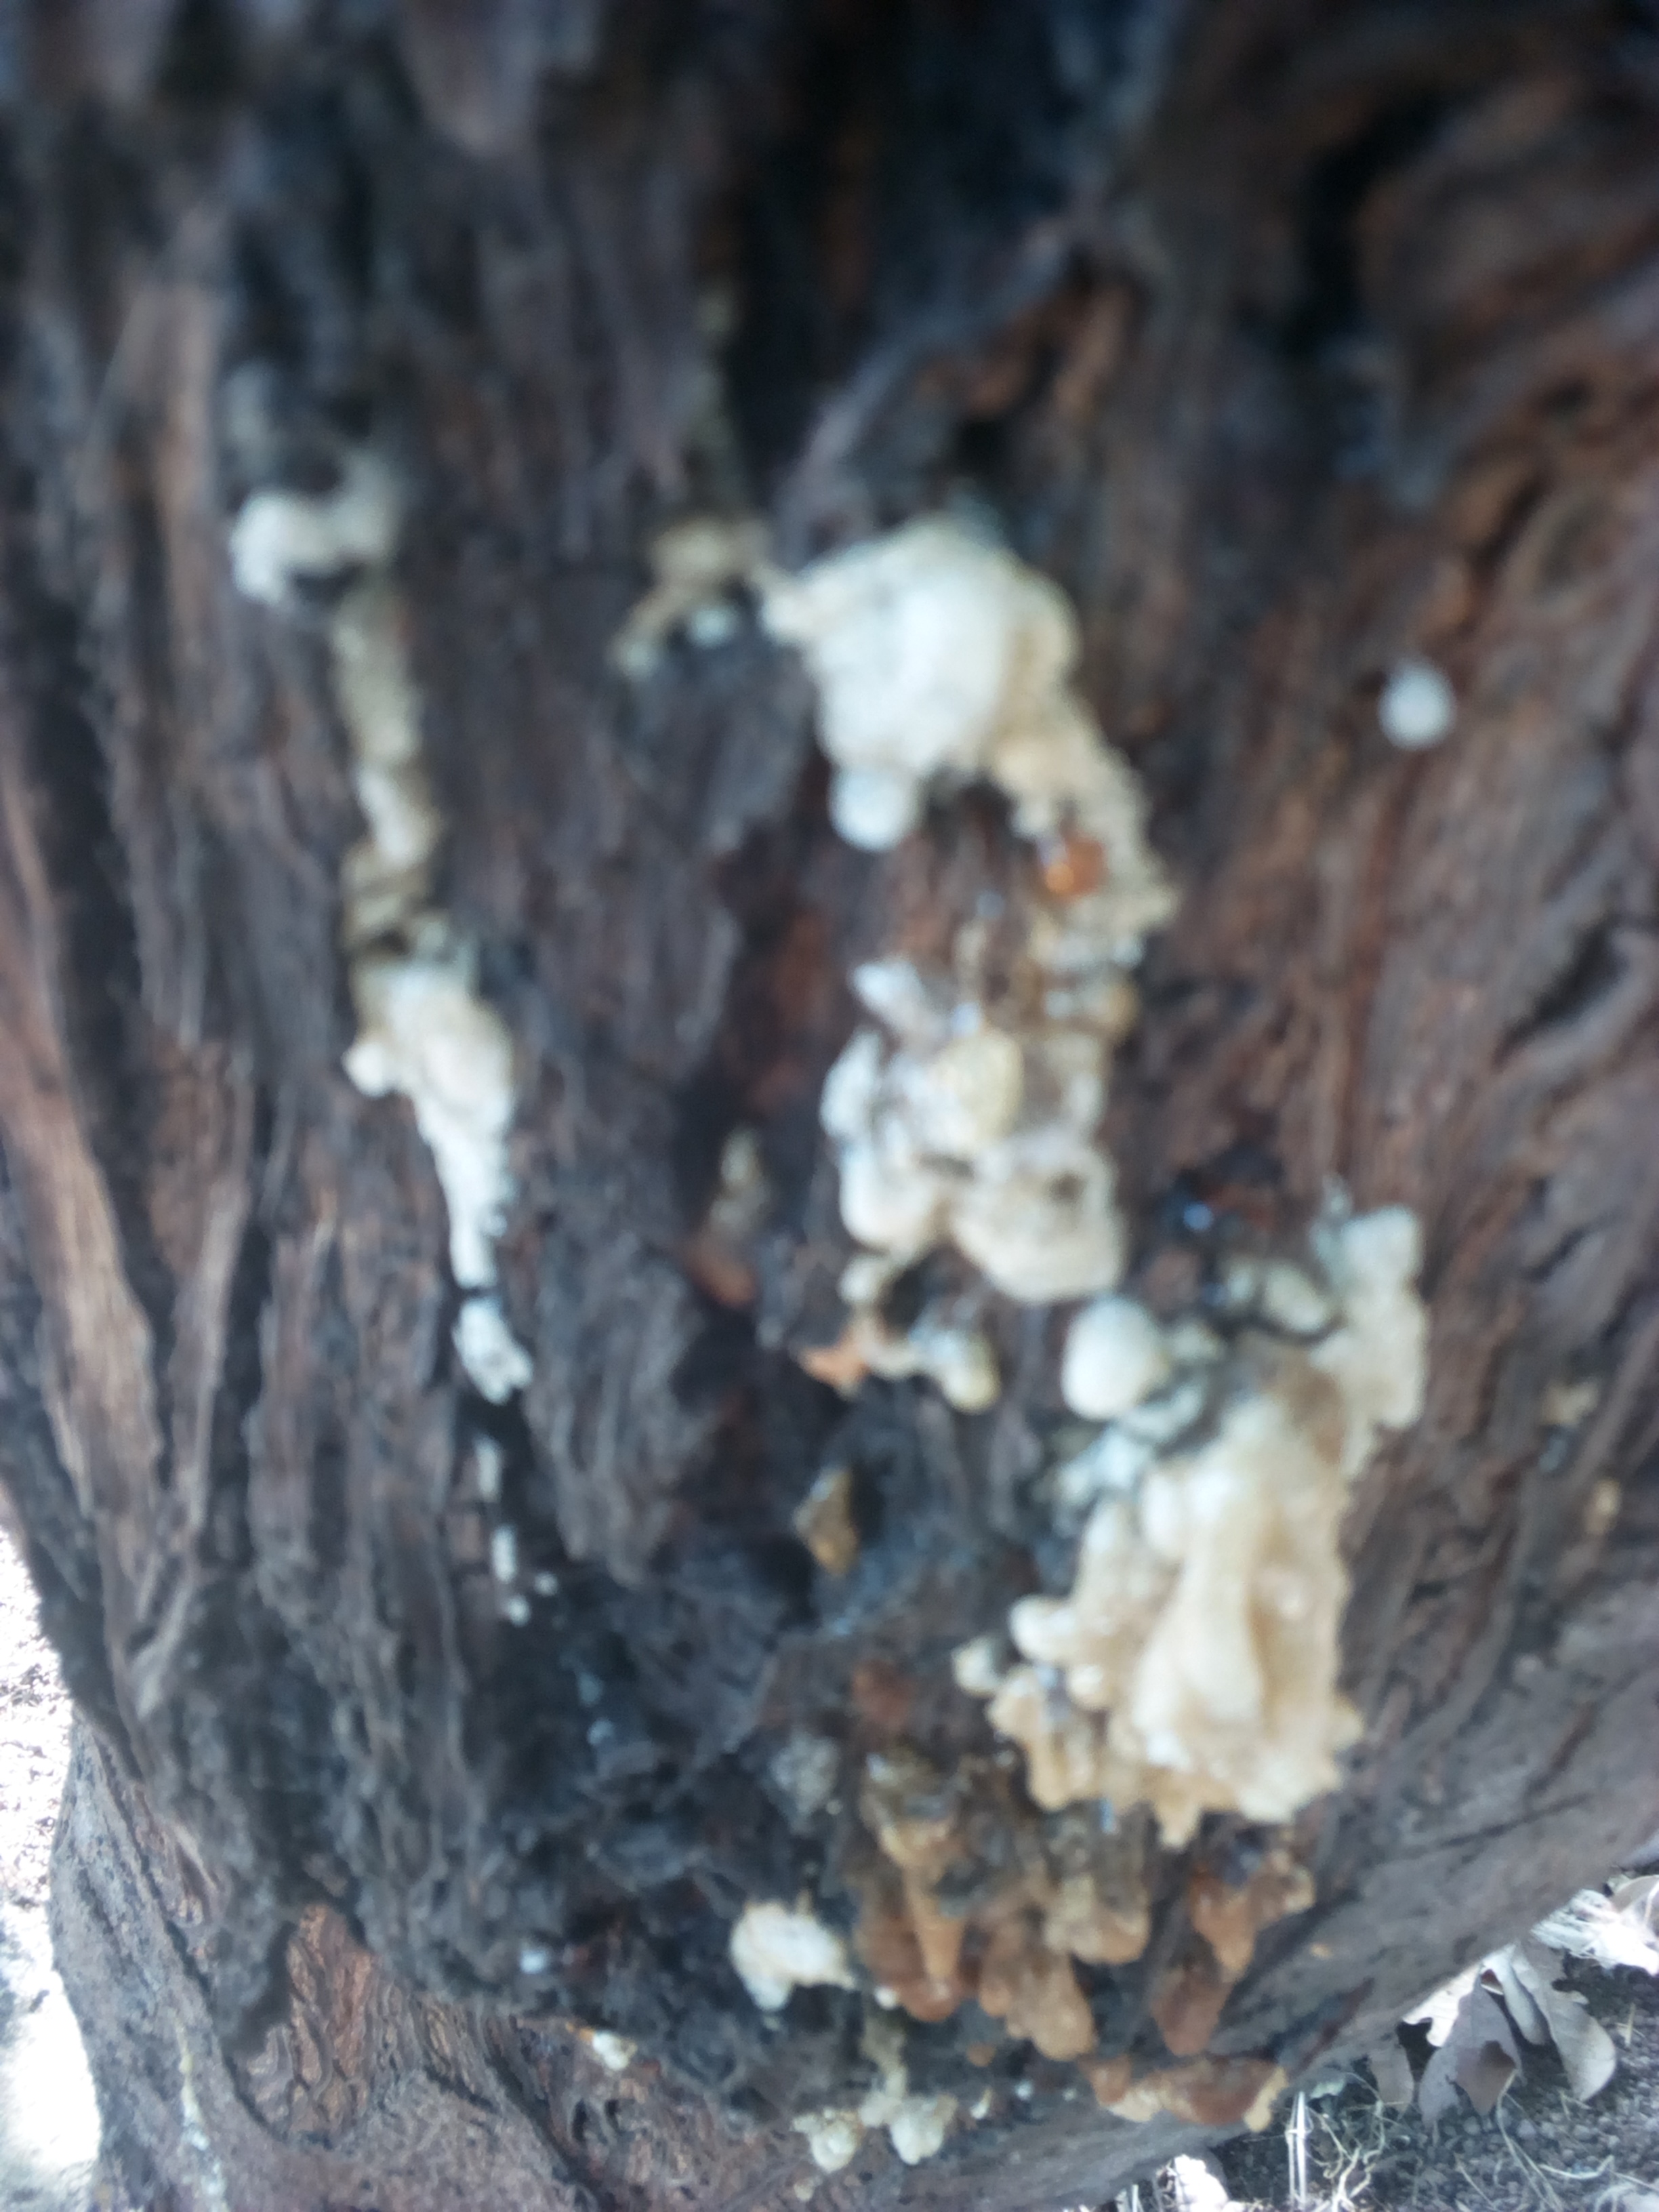Gommose: (267, 354, 1246, 2095)
